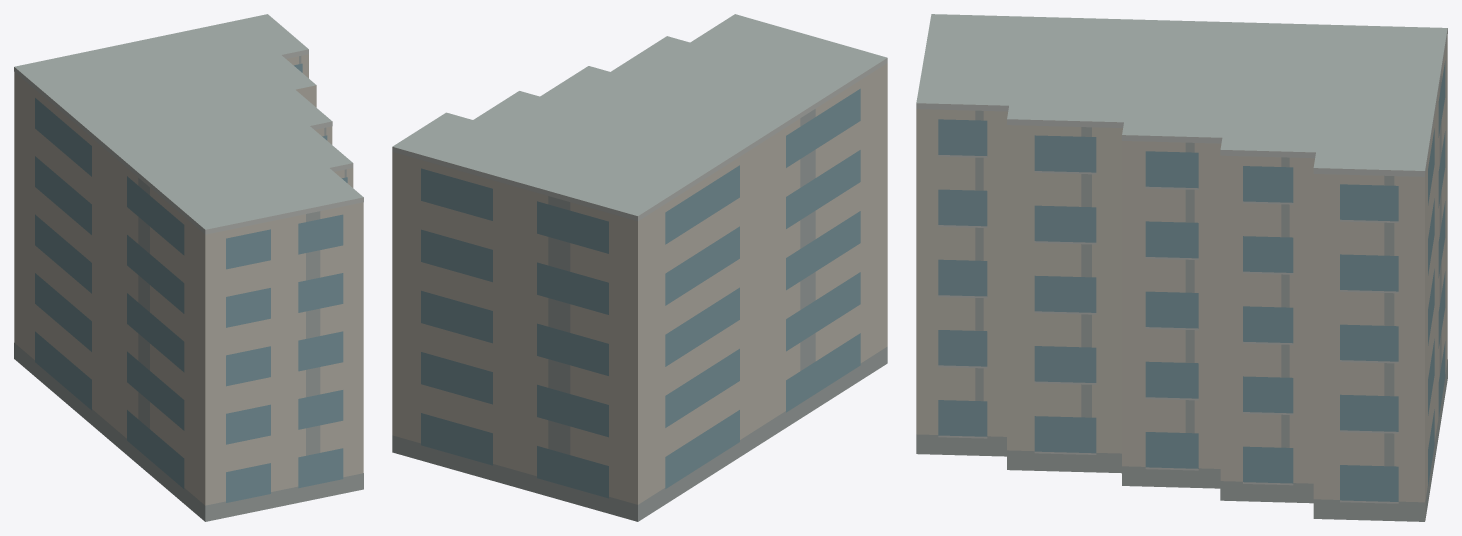
The model's file is survey-upis-33037310.glb.
3 views of the same model, side by side, from view 1: azimuth 30°, elevation 25°; view 2: azimuth 150°, elevation 25°; view 3: azimuth 270°, elevation 25° (orthographic). The views are drawn at different scales.
Parts seen in each view (by area): view 1: survey-upis-33037310.tmp; view 2: survey-upis-33037310.tmp; view 3: survey-upis-33037310.tmp.
Boxes of the visible parts, left/top/right/bottom form: survey-upis-33037310.tmp: left=14, top=14, right=363, bottom=521; survey-upis-33037310.tmp: left=392, top=14, right=887, bottom=521; survey-upis-33037310.tmp: left=916, top=14, right=1447, bottom=521.
Bounding box in the file's own units: 14.03 × 14.6 × 20.05.
